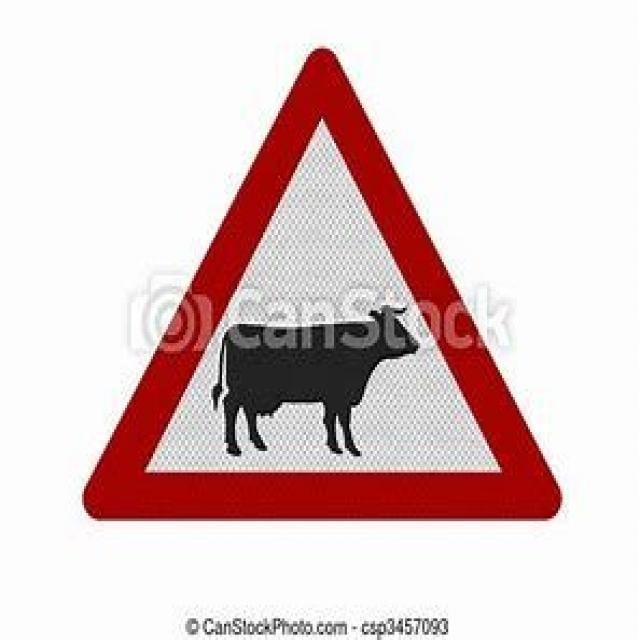CATTLE: (78, 41, 564, 546)
